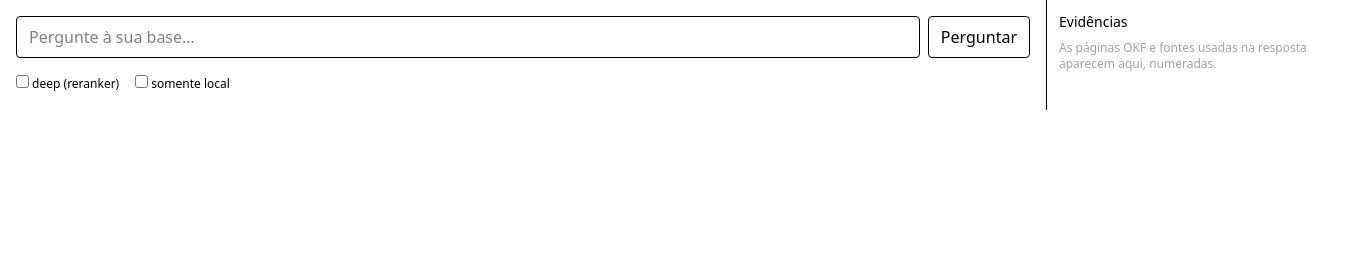
selo de sustentação (P-4) › base rasa com certeza máxima mostra sustentação fraca
In the field with placeholder "Pergunte à sua base…": (468, 37) [16, 16, 920, 58], type "zeppelins"
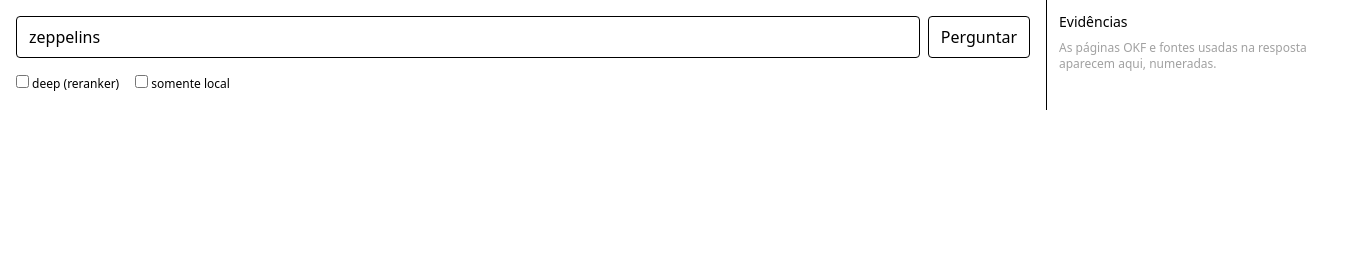
Click the button "Perguntar": (979, 37) [928, 16, 1030, 58]
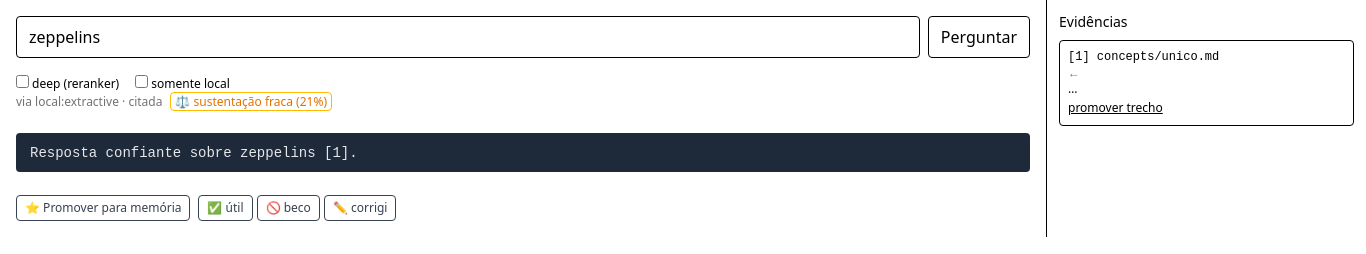
Check: the text "⚖ sustentação fraca (21%)" is shown, box [170, 92, 332, 111]
